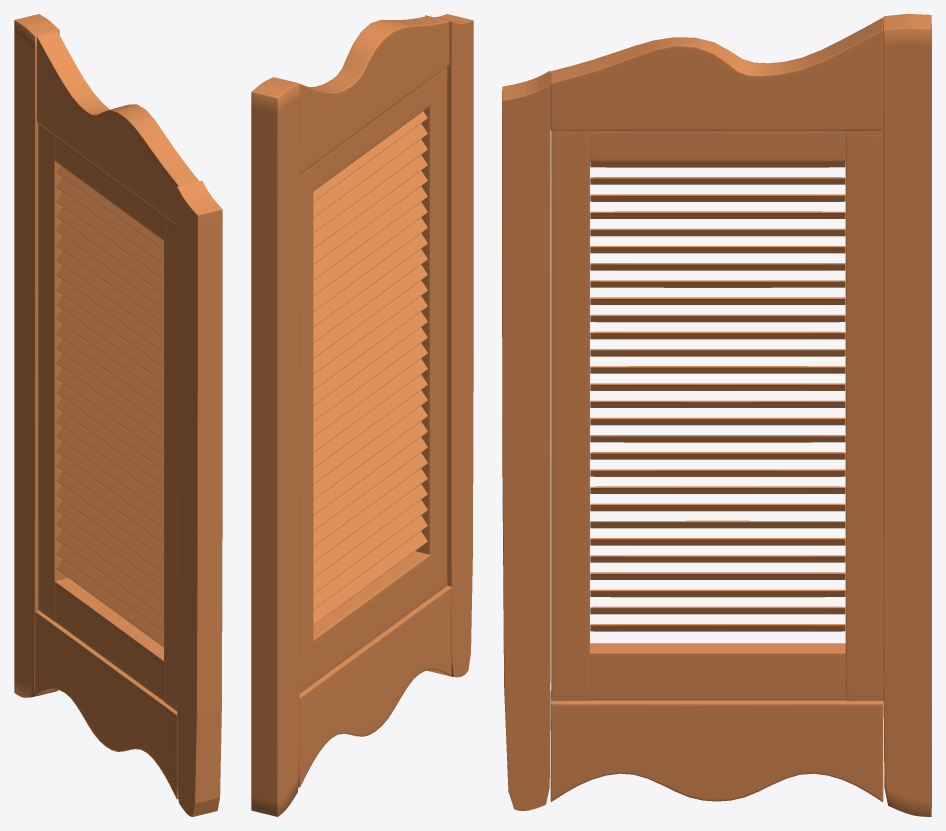
File: SaloonDoor_mdl.fbx
The picture shows the model from 3 angles, left to right: view 1: azimuth 30°, elevation 25°; view 2: azimuth 150°, elevation 25°; view 3: azimuth 270°, elevation 25°; orthographic projection. The views are drawn at different scales.
Visible parts, largest first — view 1: Cube.029; view 2: Cube.029; view 3: Cube.029.
Boxes of the visible parts, x1=… form: Cube.029: x1=14, y1=14, x2=222, y2=816; Cube.029: x1=251, y1=14, x2=473, y2=816; Cube.029: x1=502, y1=14, x2=931, y2=816.
Bounding box in the file's own units: 6.55 × 166 × 82.14.
